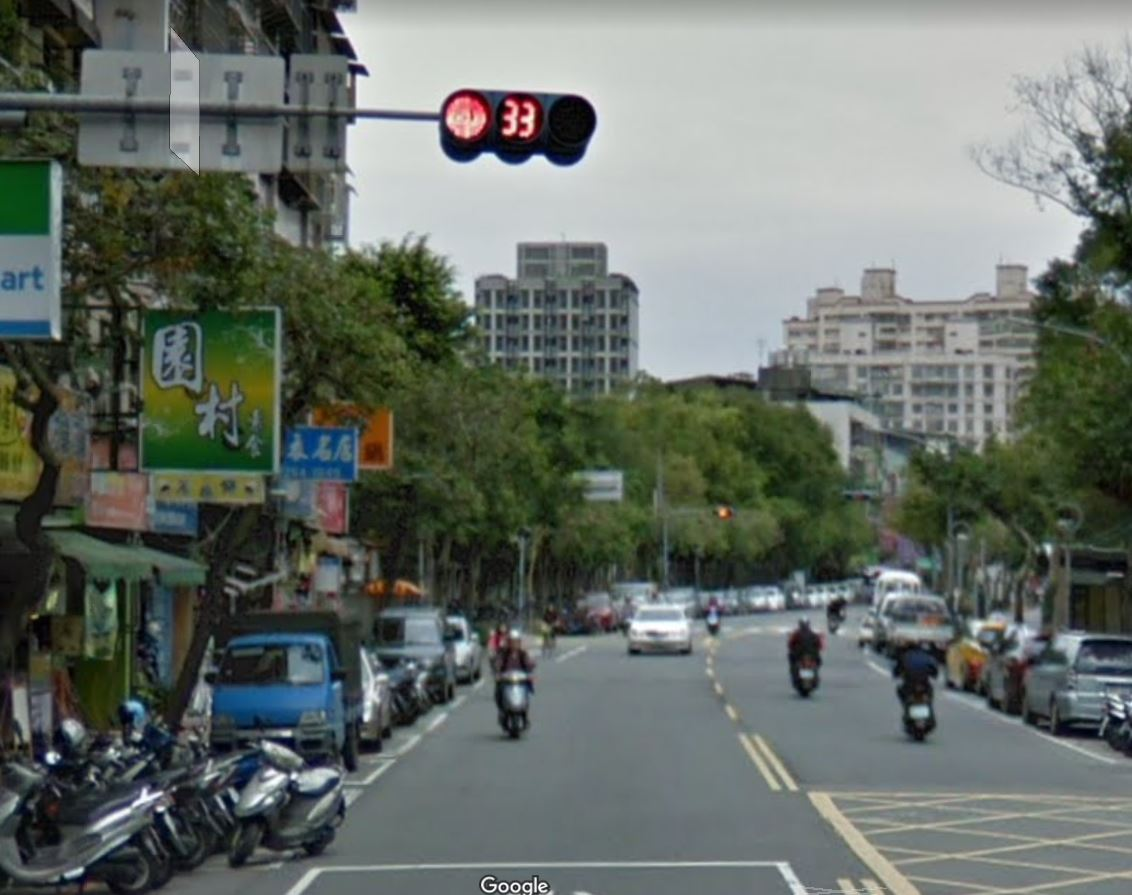Traffic_light_red: (436, 87, 597, 155)
